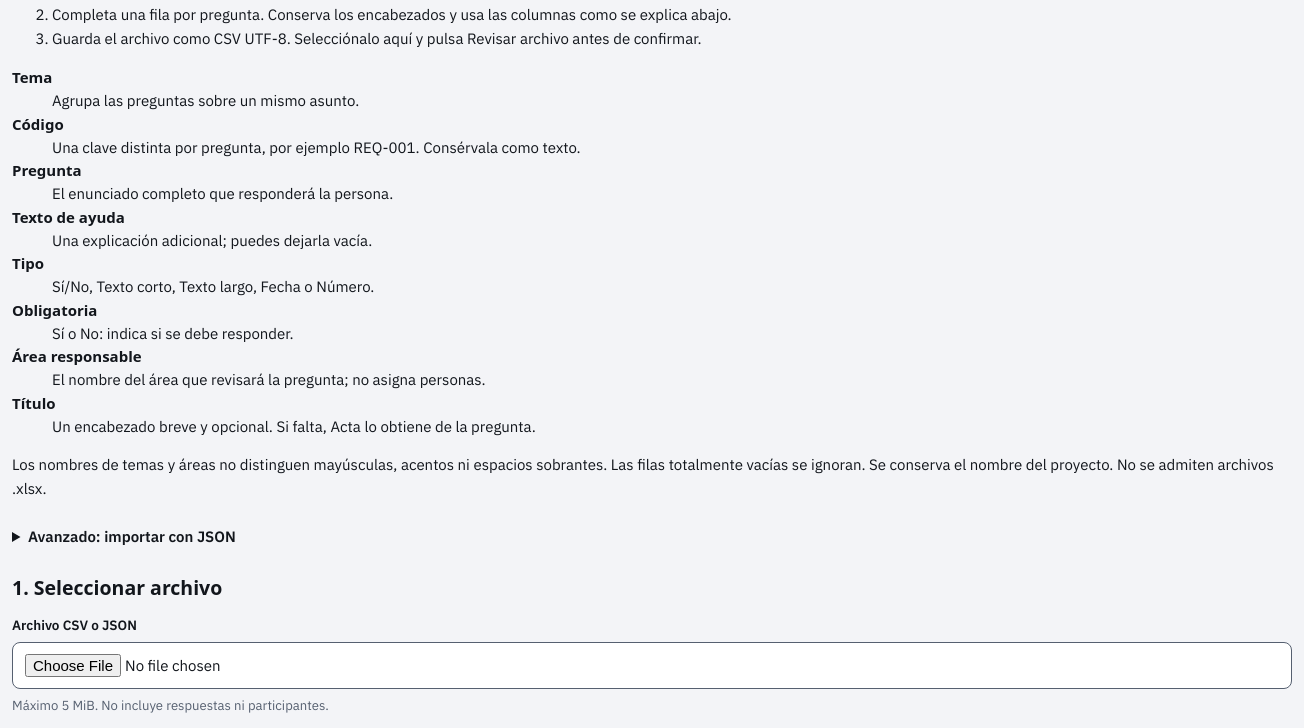
Import guidance without a new import contract › says the project's identifier inside advanced JSON help
(page scrolled)
Click the heading "Avanzado: importar con JSON": point(132, 537) [28,527,236,546]
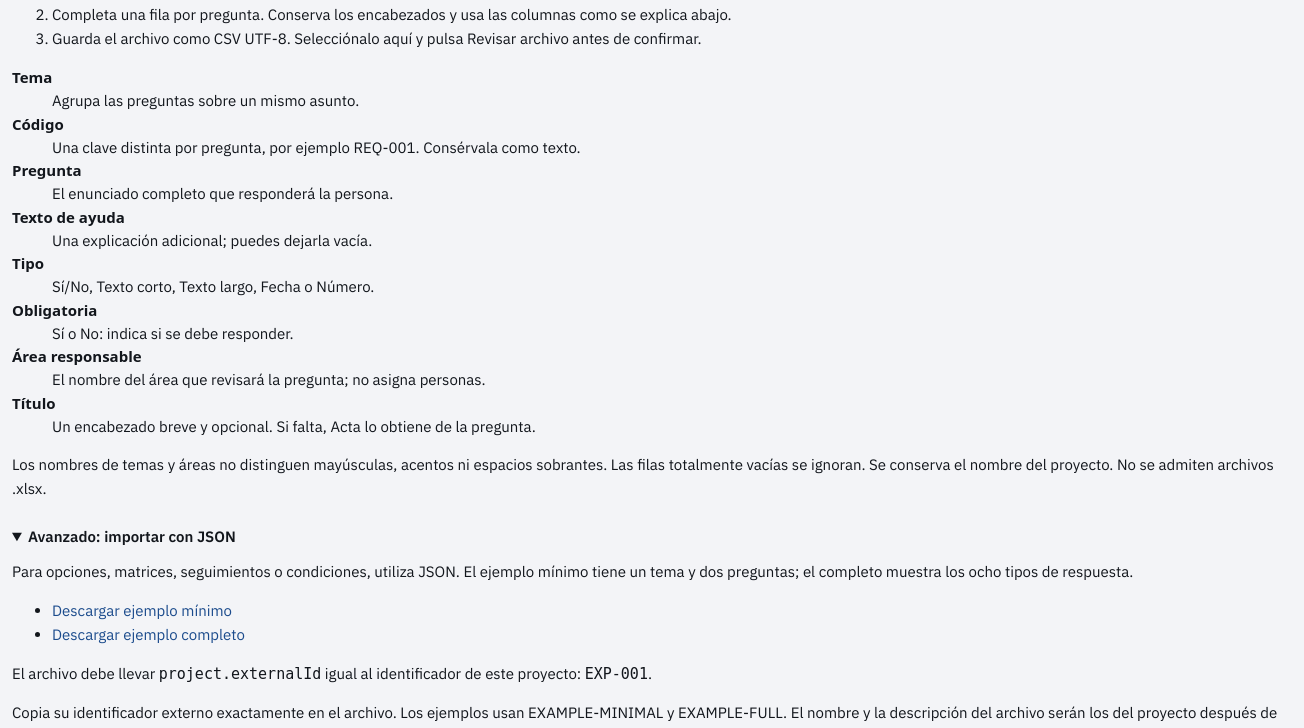
Now the text "EXP-001" is shown, box [585,665,648,683]
Now the text "igual al identificador de este proyecto" is shown, box [321,664,585,683]
